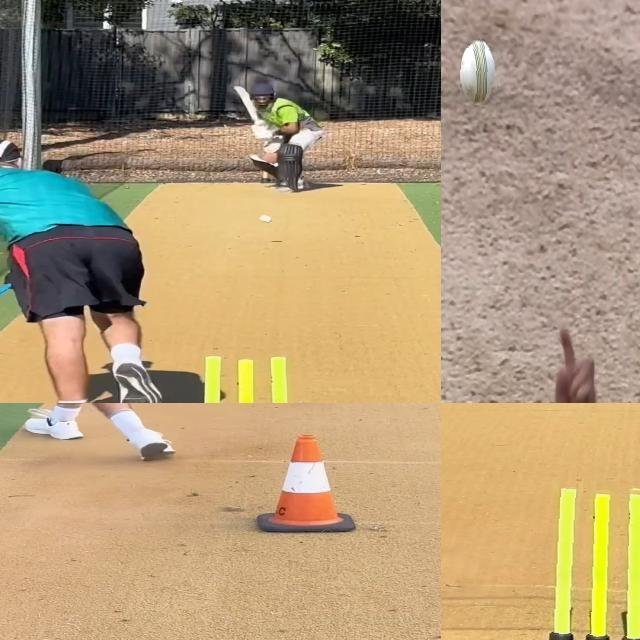Cricket ball: (460, 36, 499, 105), (257, 213, 273, 223)
Stumps: (540, 484, 640, 640)
